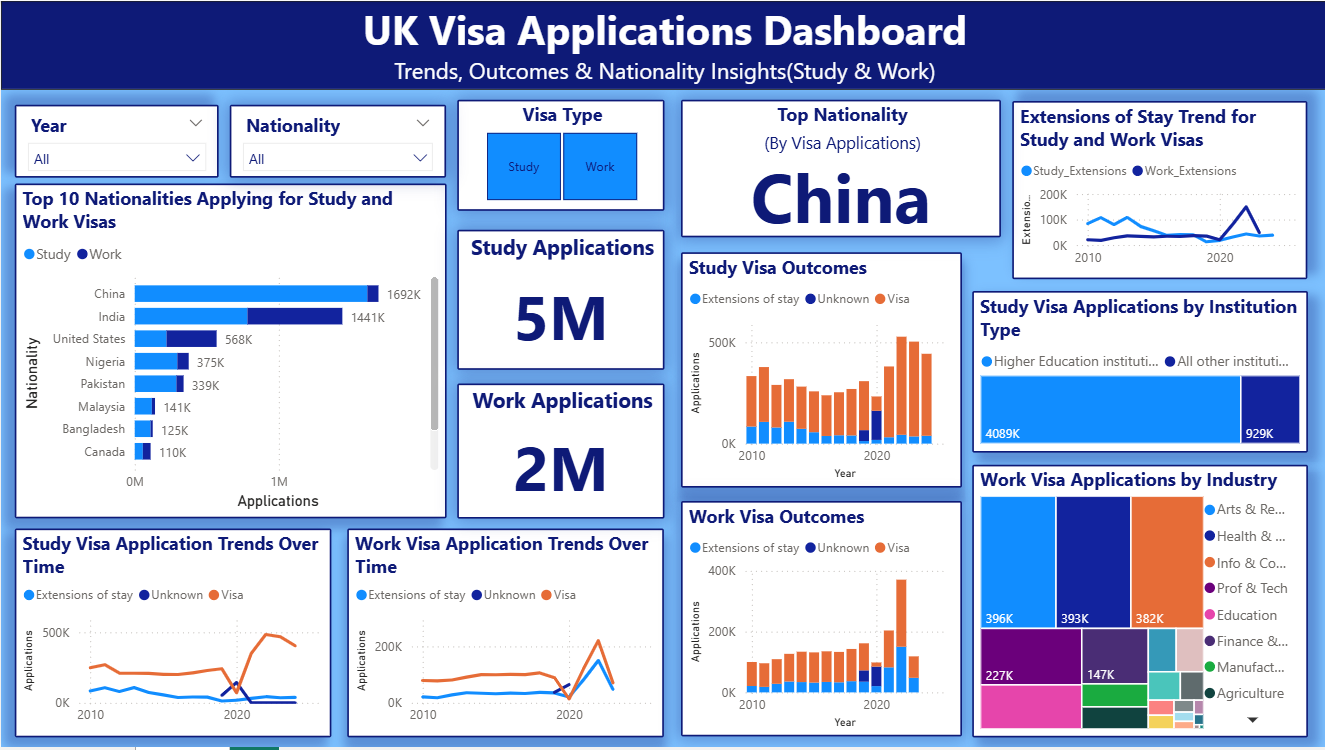

The dashboard page shown, as its layout file describes it:
{"tool":"powerbi","page":{"name":"Page 1","canvas":[1280,720],"ordinal":0},"visuals":[{"type":"barChart","title":"Top 10 Nationalities Applying for Study and Work Visas","fields":{"Category":["Nationality_Combined.Nationality"],"Y":["Sum(Nationality_Combined.Applications)"],"Series":["Nationality_Combined.Visa_Type"]},"box":[12.9,175.7,417.1,322.9],"z":0},{"type":"slicer","title":"Year","fields":{"Values":["Nationality_Combined.Year"]},"box":[12.9,100,197.1,70],"z":1000},{"type":"lineChart","title":"Study Visa Application Trends Over Time","fields":{"Category":["Study_ByInstitutionType_Clean.Year"],"Y":["Sum(Study_ByInstitutionType_Clean.Applications)"],"Series":["Study_ByInstitutionType_Clean.Visa_Type"]},"box":[12.9,508.6,305.7,201.4],"z":2000},{"type":"lineChart","title":"Work Visa Application Trends Over Time","fields":{"Category":["Work_ByIndustry_Clean.Year"],"Y":["Sum(Work_ByIndustry_Clean.Applications)"],"Series":["Work_ByIndustry_Clean.Visa_Type"]},"box":[334.3,508.6,305.7,201.4],"z":3000},{"type":"columnChart","title":"Study Visa Outcomes","fields":{"Category":["Study_ByInstitutionType_Clean.Year"],"Y":["Sum(Study_ByInstitutionType_Clean.Applications)"],"Series":["Study_ByInstitutionType_Clean.Visa_Type"]},"box":[656.2,242.5,271.2,227.5],"z":4000},{"type":"columnChart","title":"Work Visa Outcomes","fields":{"Category":["Work_ByIndustry_Clean.Year"],"Y":["Sum(Work_ByIndustry_Clean.Applications)"],"Series":["Work_ByIndustry_Clean.Visa_Type"]},"box":[656.2,482.5,271.2,227.5],"z":5000},{"type":"lineChart","title":"Extensions of Stay Trend for Study and Work Visas","fields":{"Category":["Study_ByInstitutionType_Clean.Year"],"Y":["Study_ByInstitutionType_Clean.Study_Extensions","Work_ByIndustry_Clean.Work_Extensions"]},"box":[976,96,285,172],"z":6000},{"type":"slicer","title":"Visa Type","fields":{"Values":["Nationality_Combined.Visa_Type"]},"box":[440,95.7,200,107.1],"z":7000},{"type":"slicer","title":"Nationality","fields":{"Values":["Nationality_Combined.Nationality"]},"box":[221.2,100,208.8,70],"z":8000},{"type":"card","title":"Study Applications","fields":{"Values":["Dim_Nationality.Total_Study_Applications"]},"box":[440,221.2,200,135],"z":9000},{"type":"card","title":"Work Applications","fields":{"Values":["Dim_Nationality.Total_Work_Applications"]},"box":[440,368.8,200,130],"z":10000},{"type":"card","title":"Top Nationality","fields":{"Values":["Dim_Nationality.Top_Nationality"]},"box":[655.7,95.7,308.6,132.9],"z":11000},{"type":"treemap","title":"Study Visa Applications by Institution Type","fields":{"Values":["Sum(Study_ByInstitutionType_Clean.Applications)"],"Group":["Study_ByInstitutionType_Clean.Institution_Type_Group"]},"box":[937.1,280,324.3,155.7],"z":12000},{"type":"treemap","title":"Work Visa Applications by Industry","fields":{"Values":["Sum(Work_ByIndustry_Clean.Applications)"],"Group":["Work_ByIndustry_Clean.Industry_Short"]},"box":[937.1,447.1,324.3,262.9],"z":13000},{"type":"textbox","title":"UK Visa Applications Dashboard ","box":[0,0,1280,85.7],"z":14000}]}

Visuals, with their boxes in screenshot pixels (x1, y1, x2, y2), scaled from the page's 1280x720 canvas onto the 1325x750 screenshot:
"Top 10 Nationalities Applying for Study and Work Visas" barChart: bbox(13, 183, 445, 519)
"Year" slicer: bbox(13, 104, 217, 177)
"Study Visa Application Trends Over Time" lineChart: bbox(13, 530, 330, 740)
"Work Visa Application Trends Over Time" lineChart: bbox(346, 530, 662, 740)
"Study Visa Outcomes" columnChart: bbox(679, 253, 960, 490)
"Work Visa Outcomes" columnChart: bbox(679, 503, 960, 740)
"Extensions of Stay Trend for Study and Work Visas" lineChart: bbox(1010, 100, 1305, 279)
"Visa Type" slicer: bbox(455, 100, 662, 211)
"Nationality" slicer: bbox(229, 104, 445, 177)
"Study Applications" card: bbox(455, 230, 662, 371)
"Work Applications" card: bbox(455, 384, 662, 520)
"Top Nationality" card: bbox(679, 100, 998, 238)
"Study Visa Applications by Institution Type" treemap: bbox(970, 292, 1306, 454)
"Work Visa Applications by Industry" treemap: bbox(970, 466, 1306, 740)
"UK Visa Applications Dashboard " textbox: bbox(0, 0, 1324, 89)
